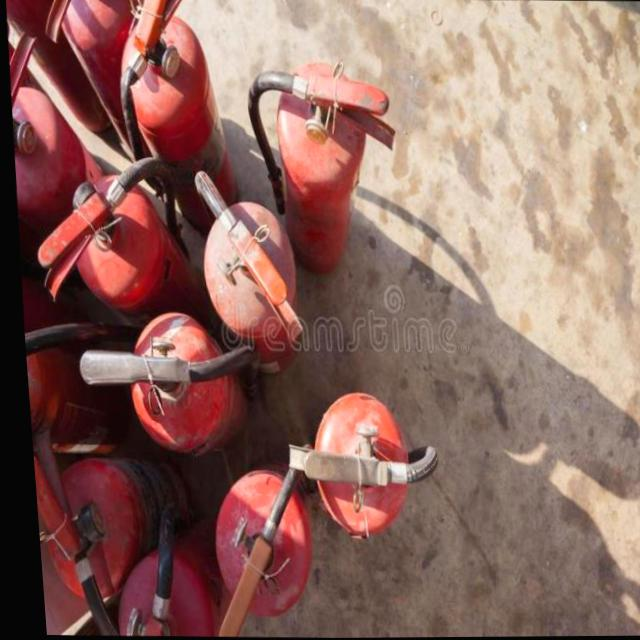FireExtinguisher: (229, 54, 416, 280), (2, 28, 142, 312), (64, 303, 270, 492), (32, 145, 212, 341), (112, 0, 247, 259), (36, 0, 201, 197), (26, 446, 191, 636), (178, 171, 310, 394), (270, 382, 443, 547), (185, 435, 317, 638), (92, 496, 214, 636), (3, 0, 127, 131)
